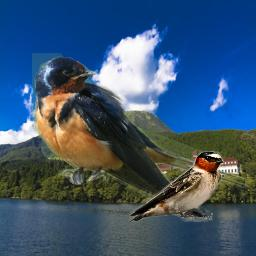Swallow: (32, 53, 249, 218), (128, 150, 224, 222)
